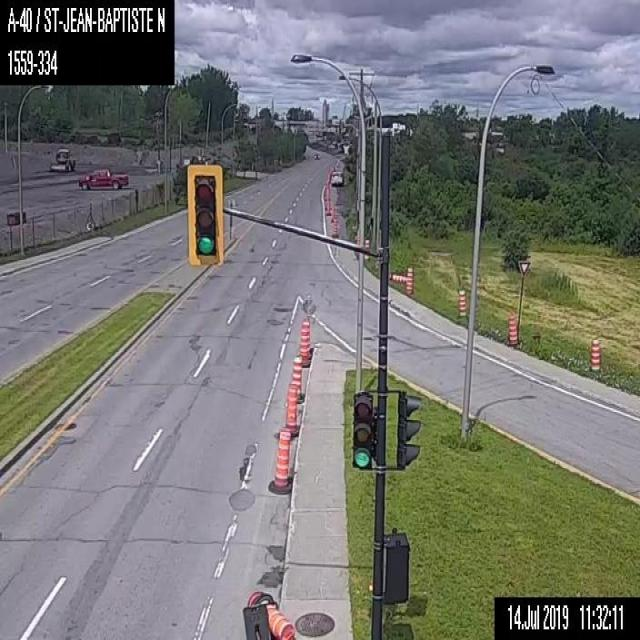construction: (242, 588, 293, 639), (268, 429, 290, 493), (280, 383, 299, 437), (288, 353, 302, 403), (297, 317, 311, 365), (506, 311, 514, 345), (590, 339, 598, 369), (456, 287, 464, 316), (405, 265, 413, 293), (392, 274, 406, 282), (364, 238, 369, 259), (326, 201, 330, 214), (356, 228, 359, 244), (333, 221, 336, 236), (331, 206, 334, 221), (269, 633, 276, 639), (326, 192, 329, 205)
vehicle: (79, 168, 128, 189), (50, 147, 74, 170), (331, 171, 344, 184), (312, 152, 320, 159)
